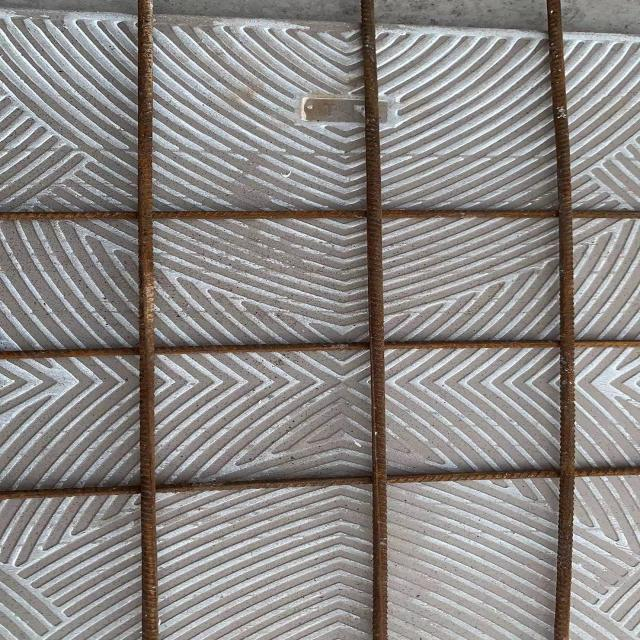ribbed bar: (0, 467, 639, 502), (544, 0, 575, 639), (360, 0, 389, 639), (135, 0, 159, 639), (0, 338, 639, 361), (0, 210, 639, 221)
